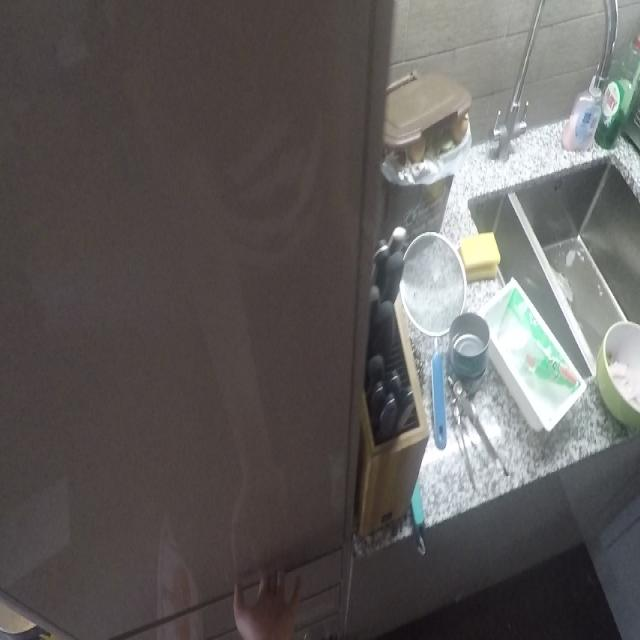bin: (382, 58, 469, 241)
bowl: (596, 309, 640, 431)
dish soap: (602, 28, 636, 154)
sink: (488, 181, 640, 327)
sponge: (462, 229, 501, 279)
tap: (491, 0, 617, 172)
